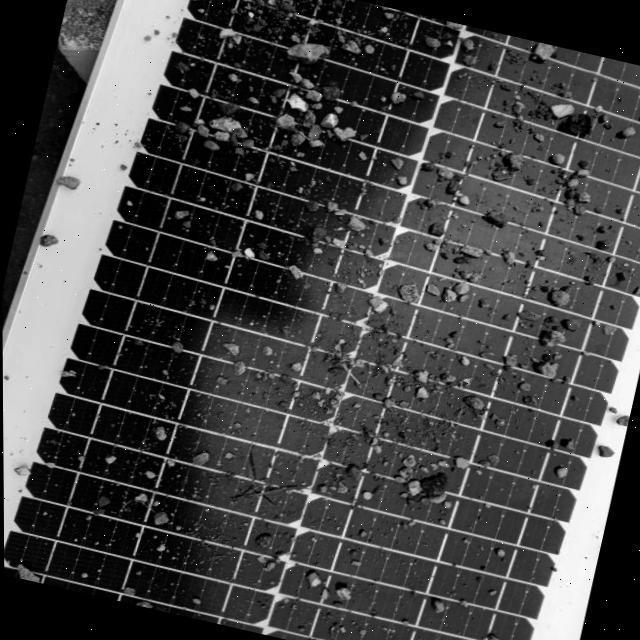Surface Contaminant: (19, 0, 640, 640)
